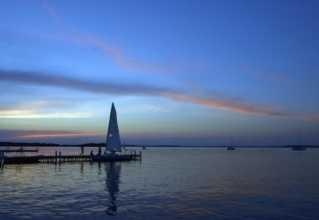fanchuan: (93, 100, 140, 164)
